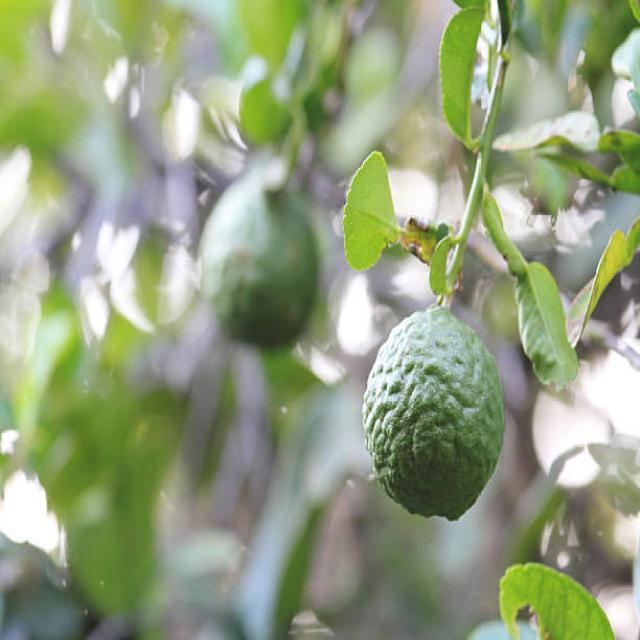Unripe: (361, 304, 504, 524)
